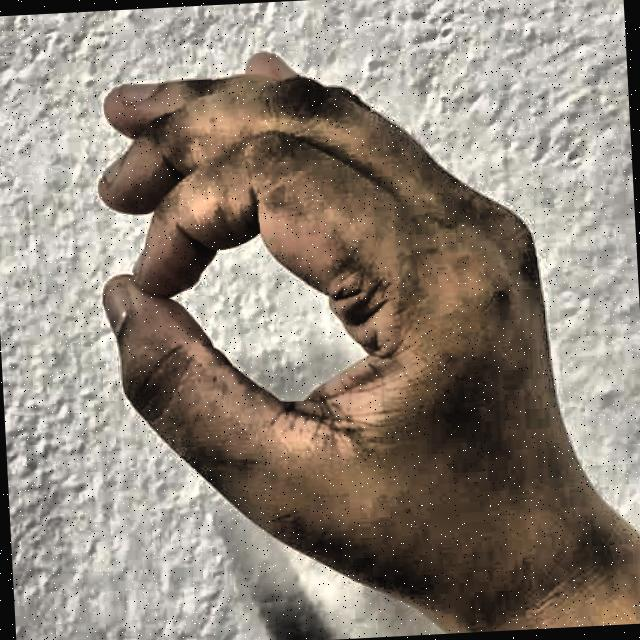Yo: (44, 19, 622, 640)
